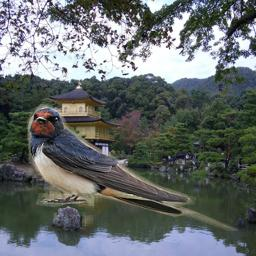Swallow: (27, 104, 238, 231)
